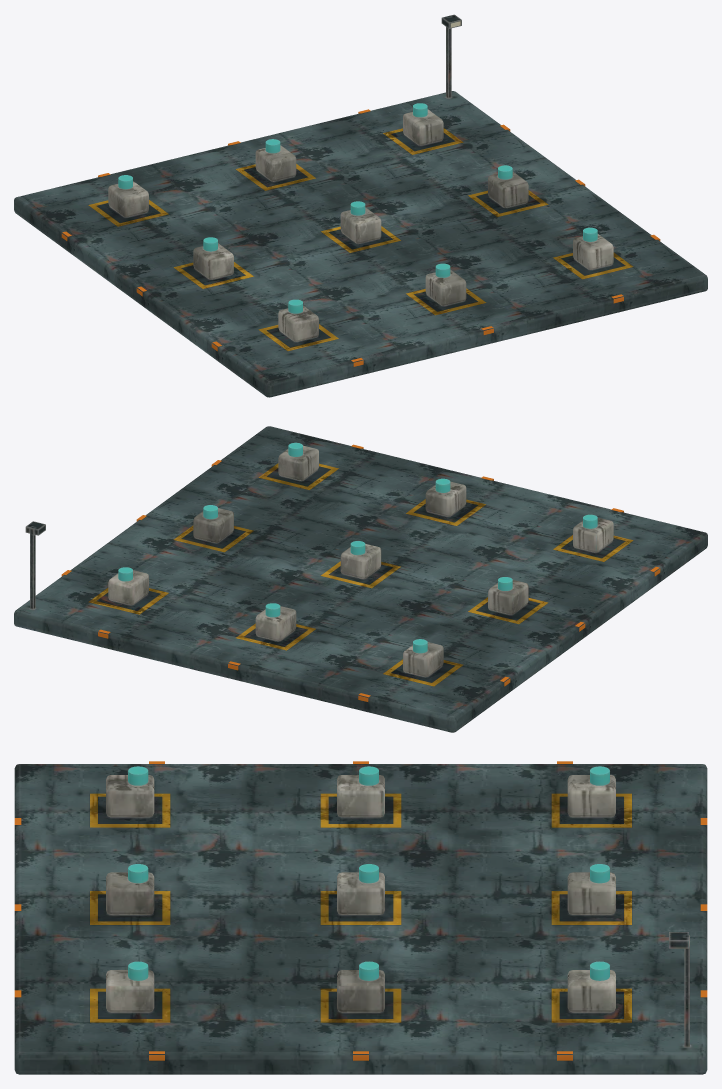
The model's file is robot_bay_large.glb.
3 views of the same model, one above another, from view 1: azimuth 30°, elevation 25°; view 2: azimuth 150°, elevation 25°; view 3: azimuth 270°, elevation 25° (orthographic). The views are drawn at different scales.
Parts seen in each view (by area): view 1: te_robot_bay_large; view 2: te_robot_bay_large; view 3: te_robot_bay_large.
Boxes of the visible parts, x1,y1,x2,y2 form: te_robot_bay_large: [14, 14, 707, 397]; te_robot_bay_large: [14, 426, 707, 732]; te_robot_bay_large: [14, 761, 707, 1074].
Size of the model in its own units: 1.72 by 0.361 by 1.72.
Materials: 1 (1 with a texture image).
